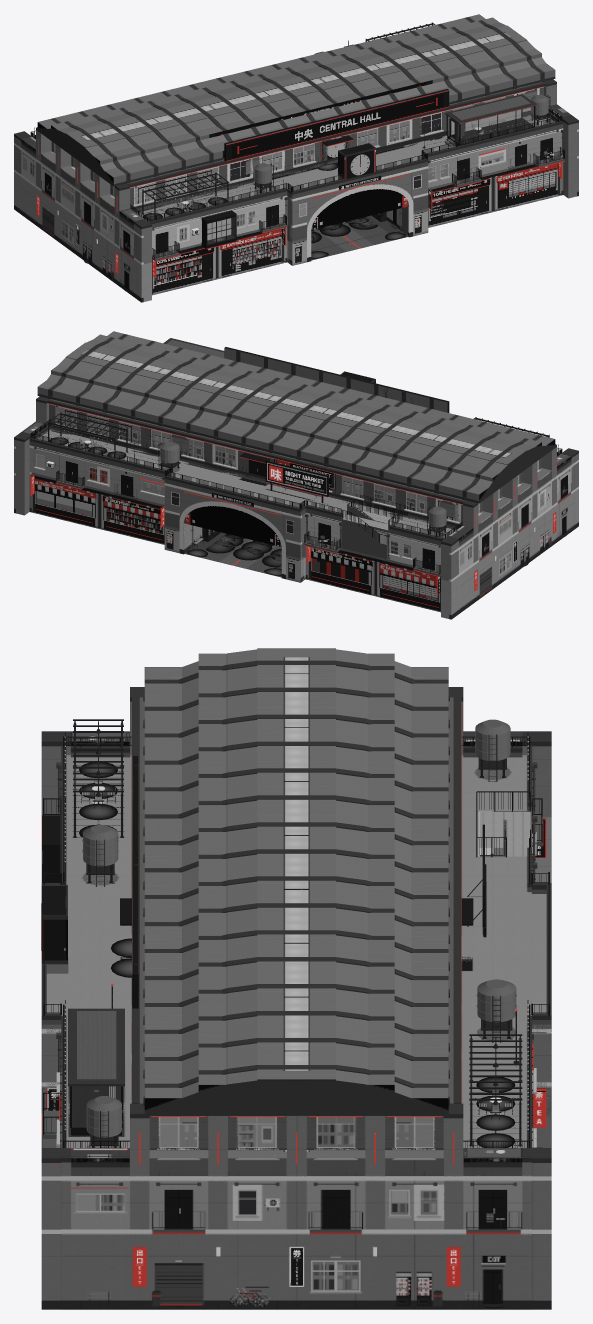
Rendered from hall-Bgo7oRDB.glb.
3 views of the same model, one above another, from view 1: azimuth 30°, elevation 25°; view 2: azimuth 150°, elevation 25°; view 3: azimuth 270°, elevation 25° (orthographic). The views are drawn at different scales.
Visible parts, largest first — view 1: farBaked, body, glow, glass, add; view 2: farBaked, body, glow, add; view 3: farBaked, body, glow, add, glass.
Part boxes in pixels (x1=…): farBaked: x1=19, y1=14, x2=570, y2=298; body: x1=14, y1=22, x2=578, y2=302; glow: x1=17, y1=40, x2=564, y2=277; glass: x1=207, y1=106, x2=533, y2=244; add: x1=48, y1=130, x2=550, y2=292; farBaked: x1=19, y1=331, x2=573, y2=615; body: x1=14, y1=338, x2=578, y2=619; glow: x1=30, y1=403, x2=575, y2=594; add: x1=42, y1=437, x2=567, y2=609; farBaked: x1=41, y1=648, x2=551, y2=1309; body: x1=41, y1=649, x2=551, y2=1309; glow: x1=41, y1=701, x2=546, y2=1286; add: x1=79, y1=762, x2=515, y2=1308; glass: x1=72, y1=1086, x2=120, y2=1127.
Bounding box in the file's own units: 52.05 × 13.06 × 26.02.
7 materials, 7 textured.
